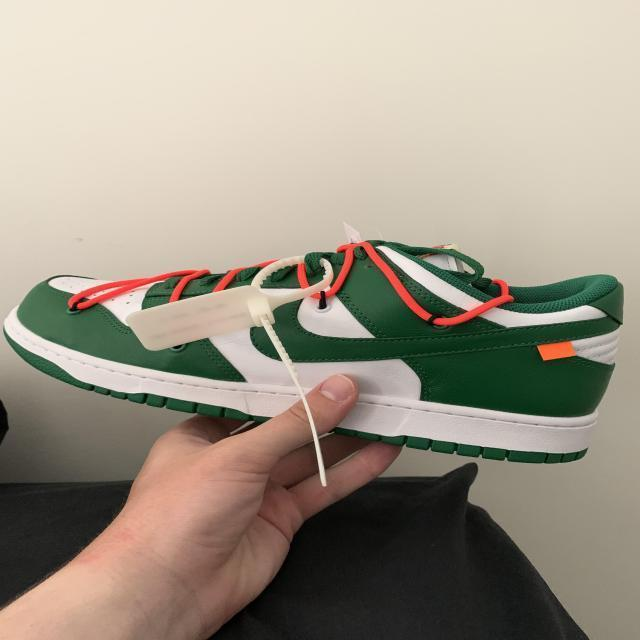shoes: (0, 237, 627, 465)
